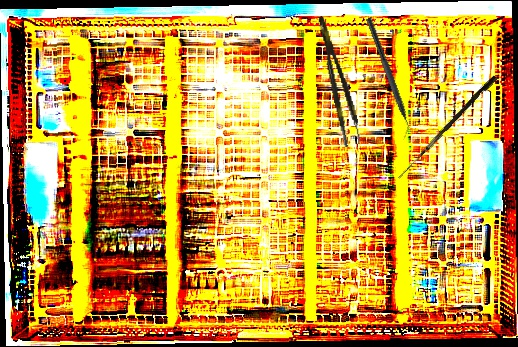Chopper: (357, 16, 417, 141)
Hook Surgical: (398, 73, 498, 183)
Tissue Forceps: (316, 13, 363, 148)
